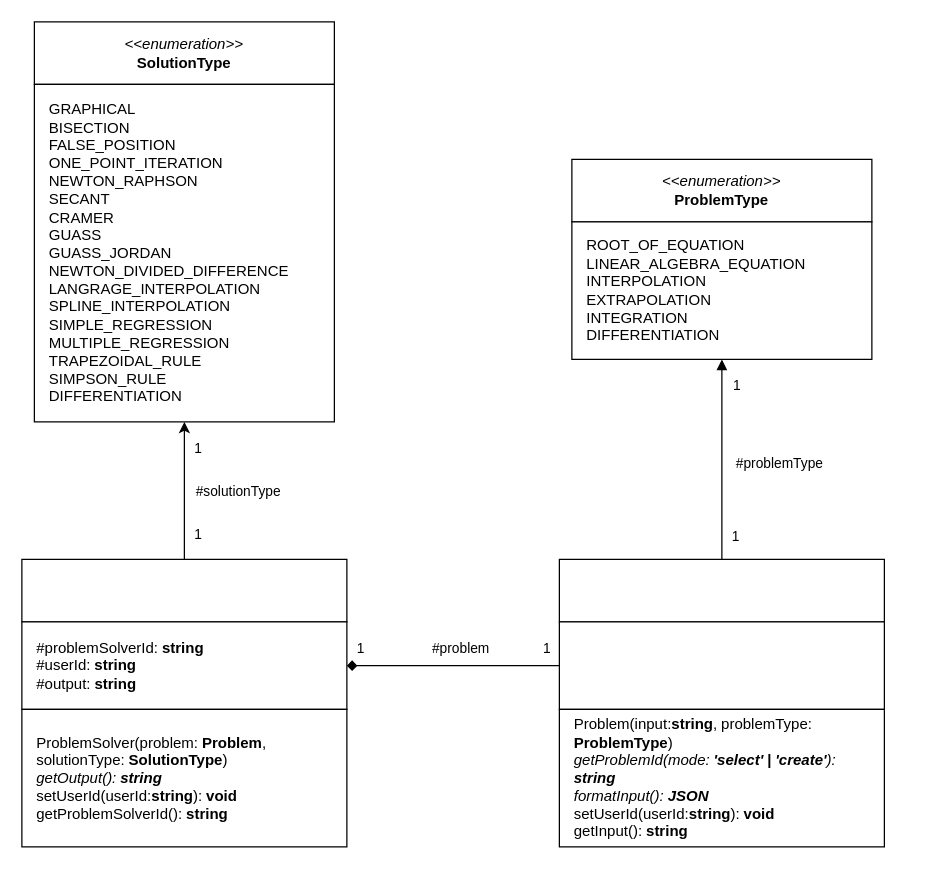
The diagram is 931 pixels wide and 869 high, and some of its shapes have lost their labels. The shapes that lost their labels are listed below. From the top down, each one's centre as x and y in pixels, then its label:
At point (184, 590): "<<abstract>> ProblemSolver".
At point (721, 590): "<<abstract>> Problem".
At point (721, 665): "#problemId: string #userId: string #input: string".
